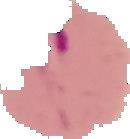parasitized: (51, 23, 74, 60)
